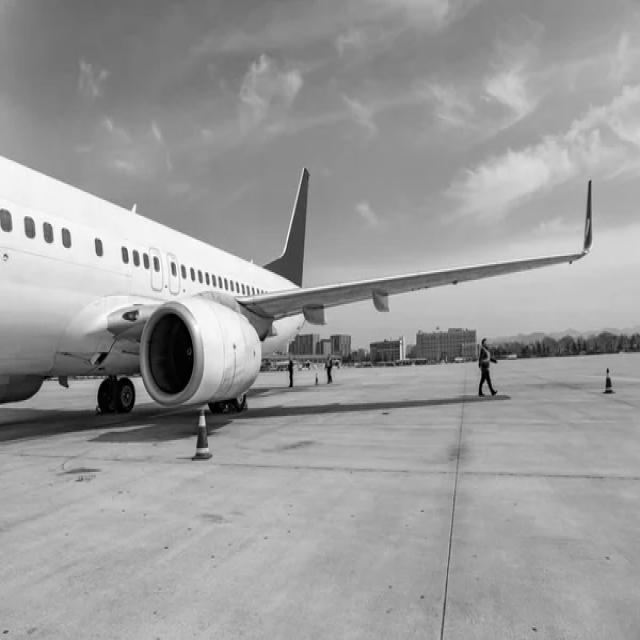Aircraft: (0, 156, 600, 428)
